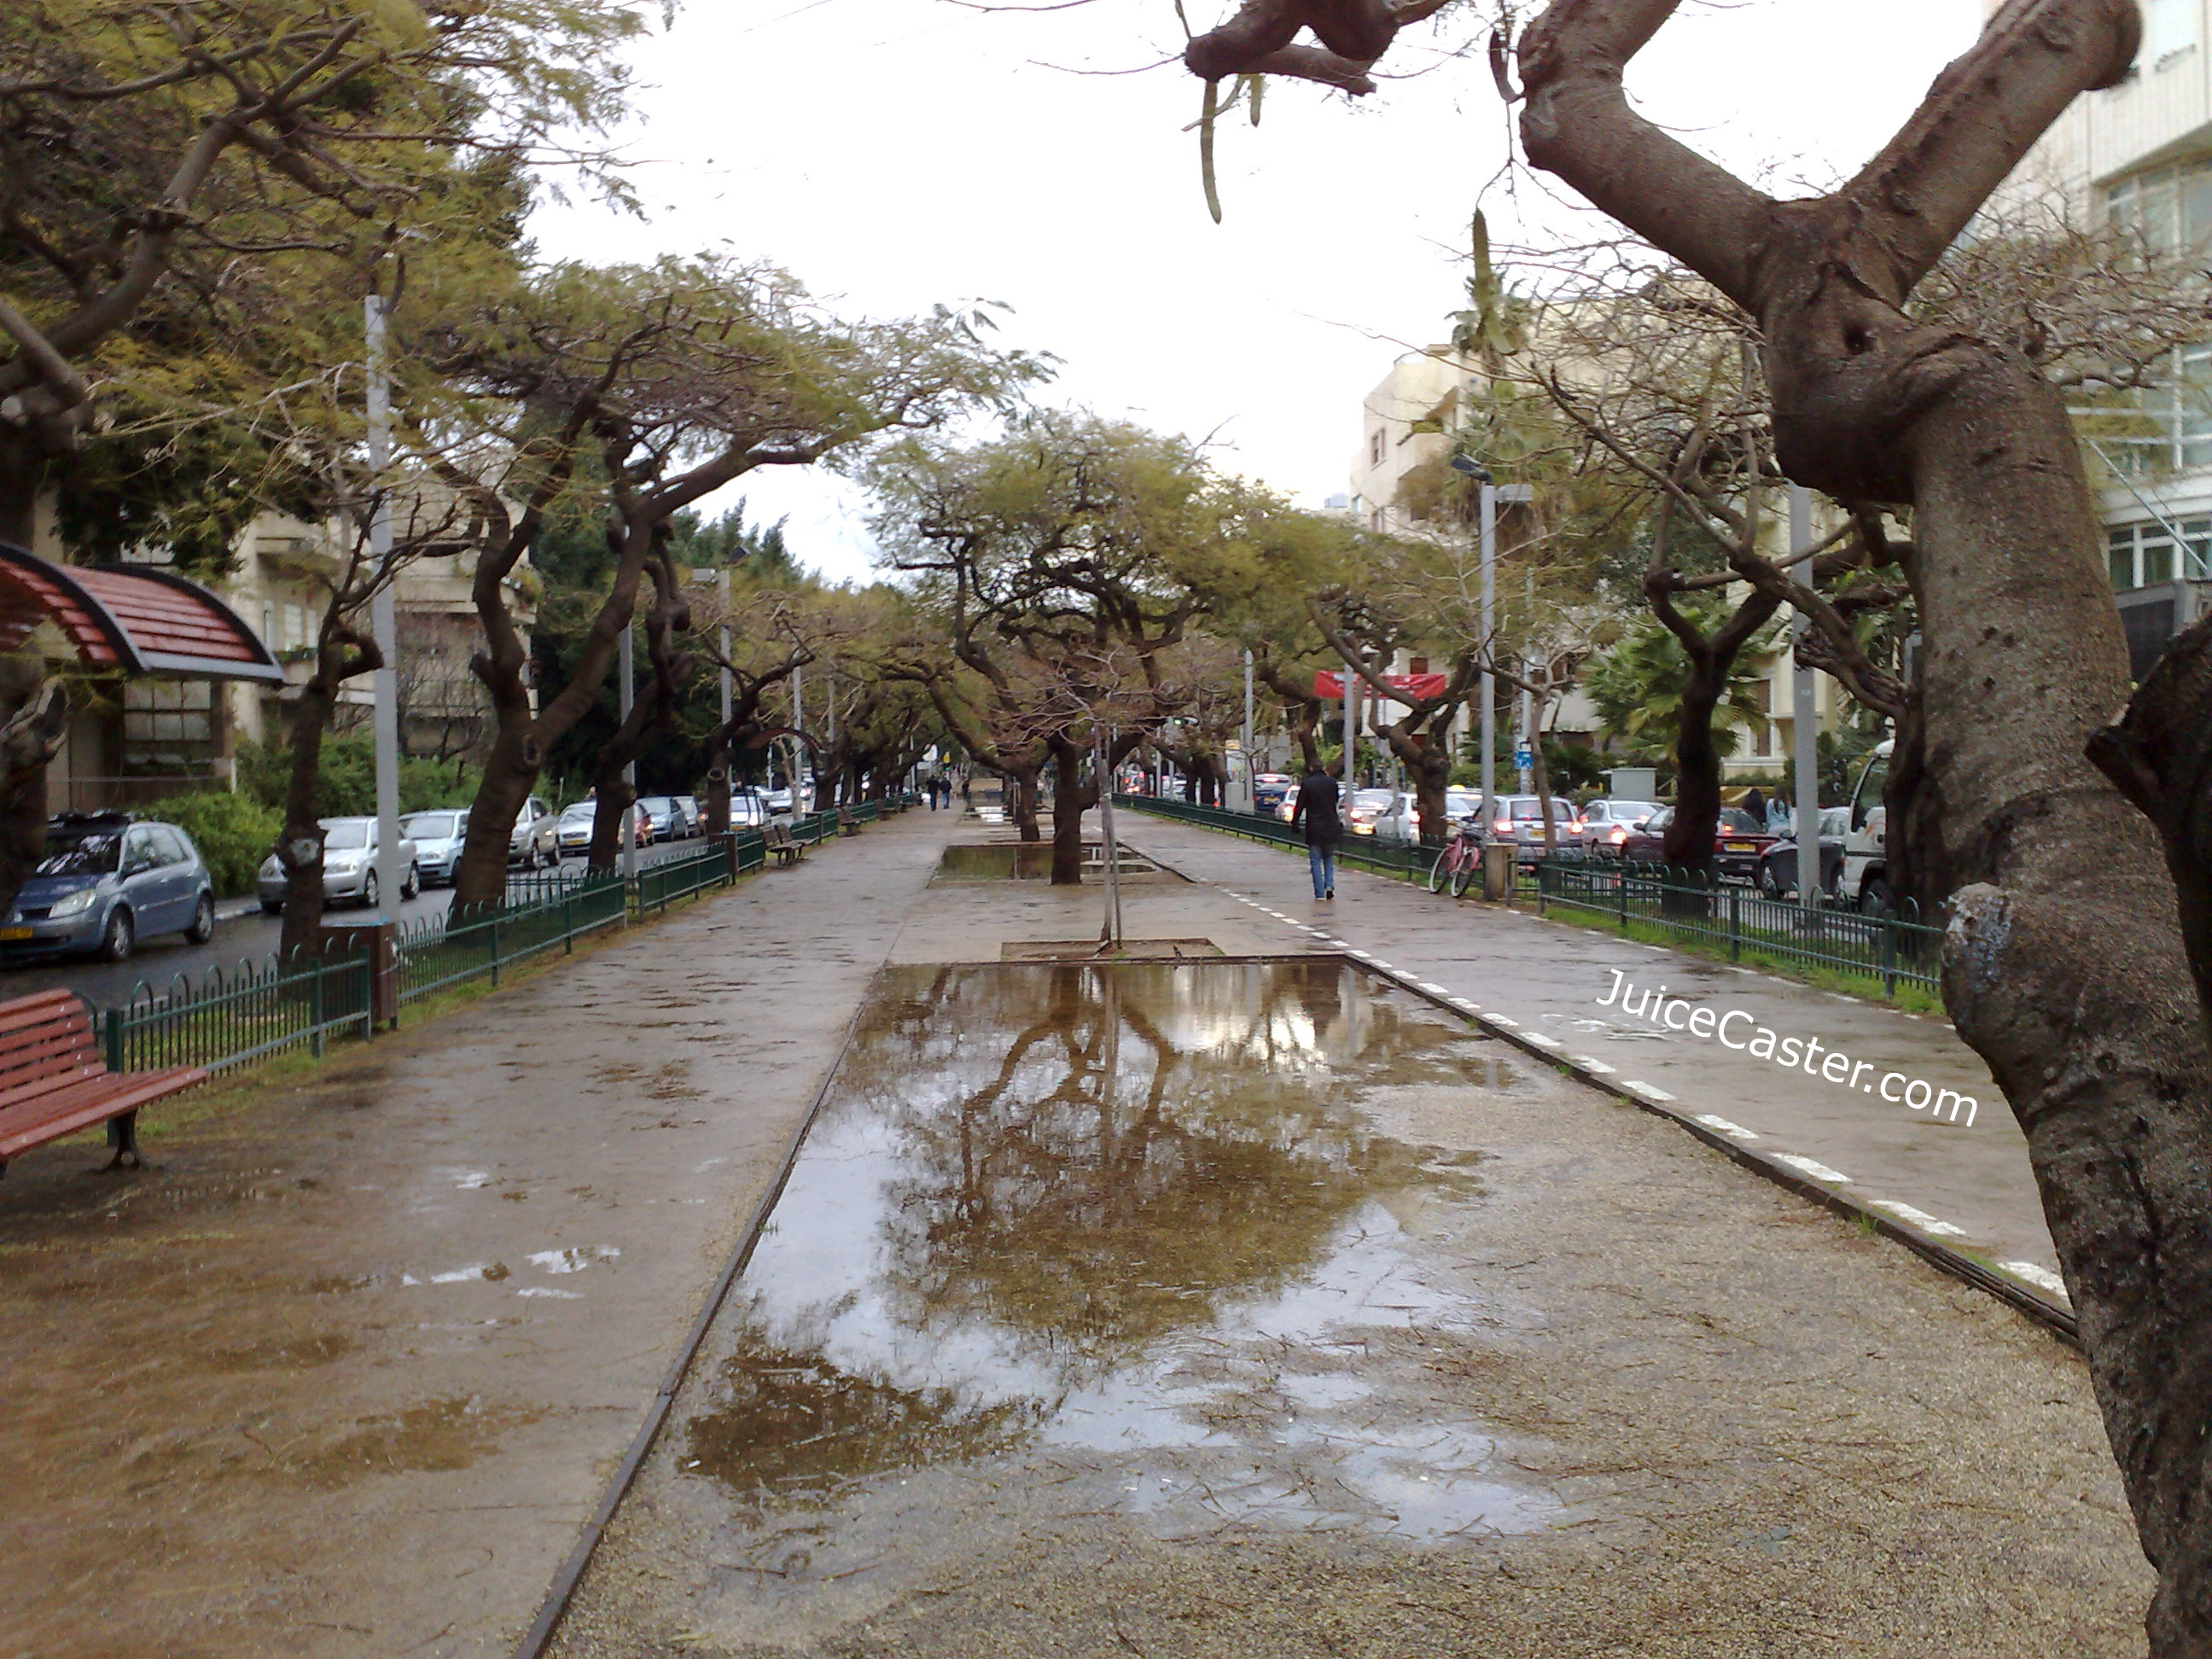person: (1287, 750, 1372, 916)
sky: (595, 1, 1804, 528)
tree: (361, 253, 1024, 1004), (848, 379, 1302, 884)
water: (712, 928, 1494, 1413)
